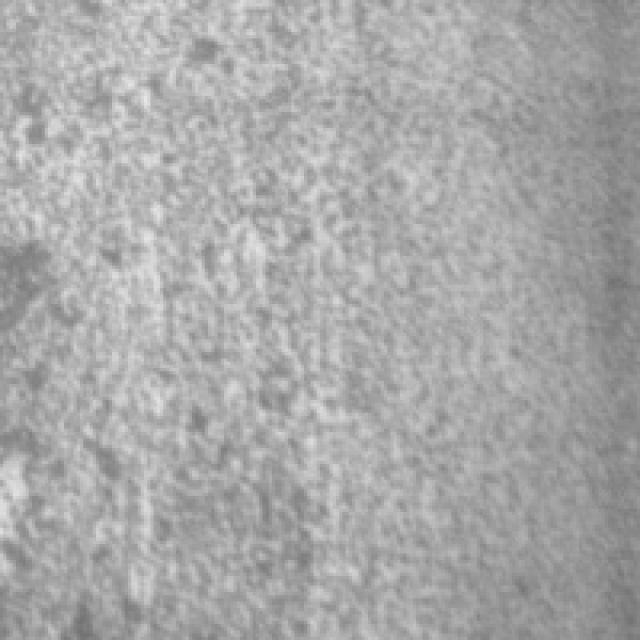pitted_surface: (0, 0, 409, 598)
